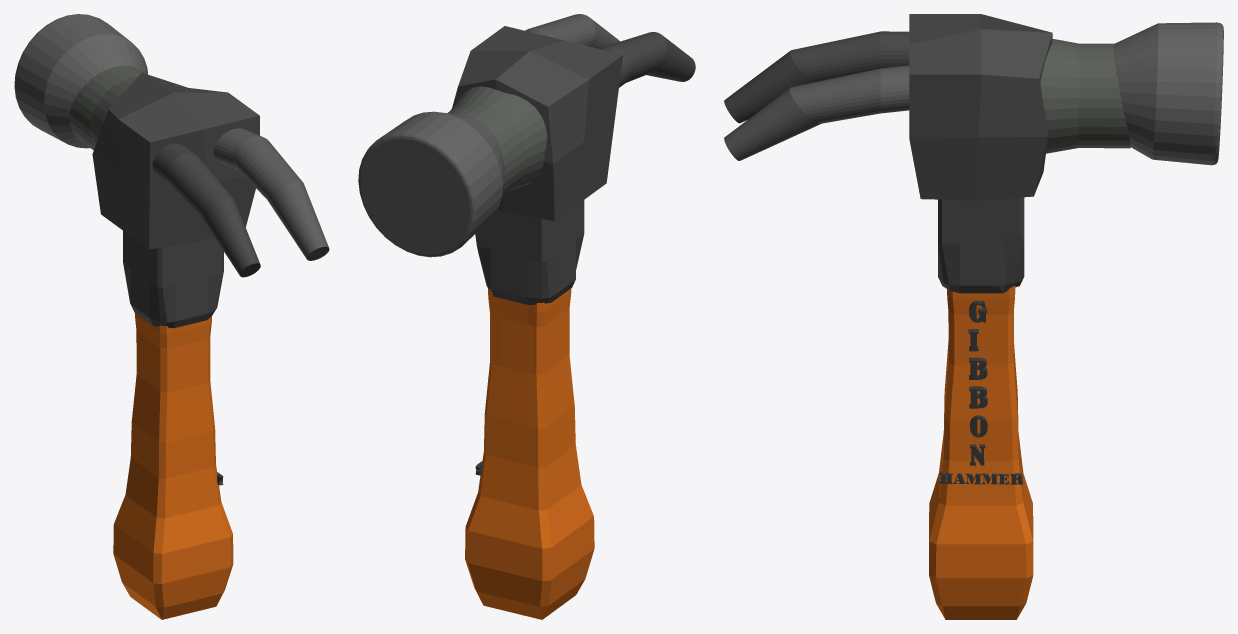
The model's file is HAMMER.fbx.
3 views of the same model, side by side, from view 1: azimuth 30°, elevation 25°; view 2: azimuth 150°, elevation 25°; view 3: azimuth 270°, elevation 25° (orthographic). The views are drawn at different scales.
Parts seen in each view (by area): view 1: Cube, Cube.001, Cylinder, Cube.002, Cylinder.003, Cylinder.002, Cylinder.001; view 2: Cube, Cube.001, Cylinder, Cube.002, Cylinder.001, Cylinder.002, Cylinder.003; view 3: Cube, Cube.001, Cylinder, Cylinder.001, Cylinder.003, Cube.002, Cylinder.002, Text, Text.001.
Boxes of the visible parts, x1=… form: Cube: x1=113, y1=312, x2=233, y2=619; Cube.001: x1=92, y1=72, x2=259, y2=249; Cylinder: x1=14, y1=14, x2=147, y2=148; Cube.002: x1=123, y1=231, x2=223, y2=328; Cylinder.003: x1=213, y1=128, x2=329, y2=260; Cylinder.002: x1=152, y1=143, x2=260, y2=277; Cylinder.001: x1=69, y1=65, x2=144, y2=150; Cube: x1=465, y1=288, x2=594, y2=619; Cube.001: x1=452, y1=26, x2=622, y2=221; Cylinder: x1=358, y1=111, x2=504, y2=257; Cube.002: x1=475, y1=200, x2=584, y2=305; Cylinder.001: x1=447, y1=86, x2=547, y2=196; Cylinder.002: x1=600, y1=32, x2=695, y2=87; Cylinder.003: x1=525, y1=14, x2=619, y2=48; Cube: x1=929, y1=285, x2=1033, y2=619; Cube.001: x1=909, y1=14, x2=1052, y2=200; Cylinder: x1=1113, y1=22, x2=1223, y2=165; Cylinder.001: x1=1040, y1=38, x2=1130, y2=153; Cylinder.003: x1=724, y1=65, x2=909, y2=160; Cube.002: x1=938, y1=197, x2=1024, y2=293; Cylinder.002: x1=724, y1=31, x2=909, y2=123; Text: x1=968, y1=300, x2=987, y2=465; Text.001: x1=939, y1=472, x2=1022, y2=484.
Size of the model in its own units: 167 by 738 by 581.
